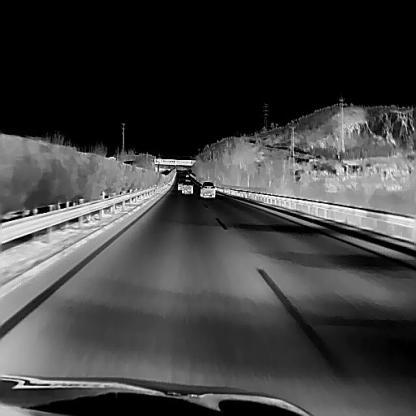car: (199, 180, 214, 196), (180, 180, 193, 193), (177, 180, 185, 190)
